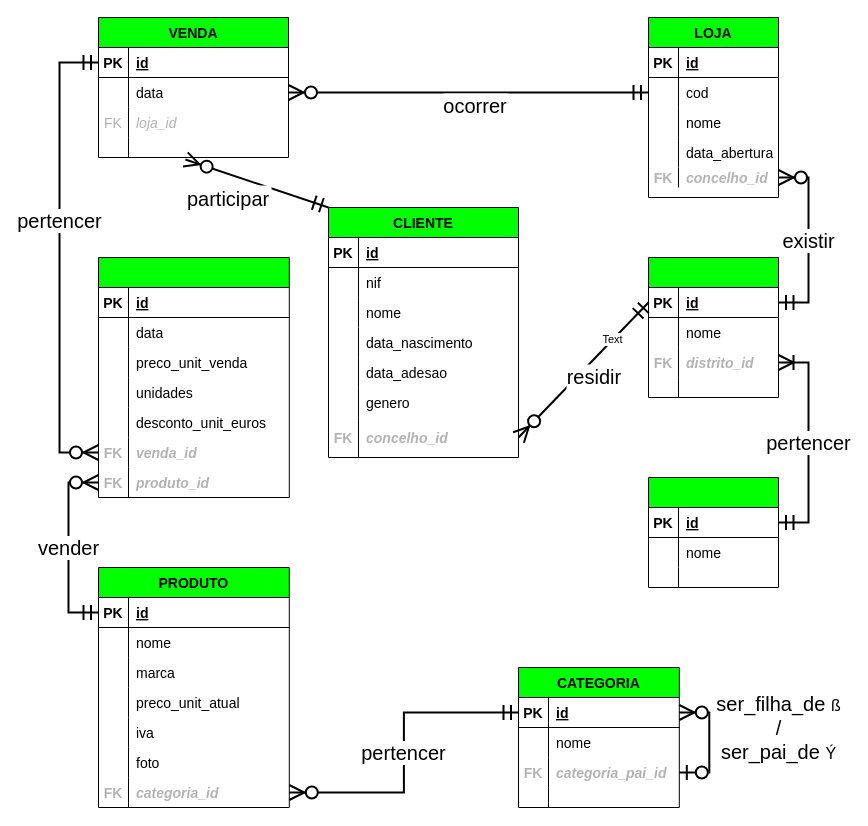
The diagram is 868 pixels wide and 826 high, and some of its shapes have lost their labels. The box of each missing label's shape, as (x1, y1, x2, y2) in pixels:
CONCELHO: (648, 256, 778, 398)
DISTRITO: (648, 476, 778, 588)
LINHA_VENDA: (98, 256, 289, 498)
